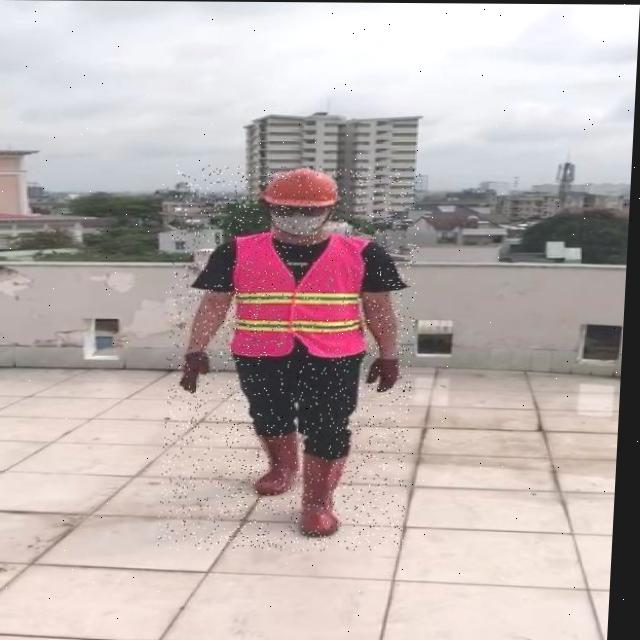Gloves: (184, 350, 215, 392), (370, 356, 407, 391)
Helmet: (264, 166, 343, 237)
Safety-Boot: (304, 448, 355, 536), (260, 430, 307, 495)
Safety-Vest: (231, 230, 378, 358)
